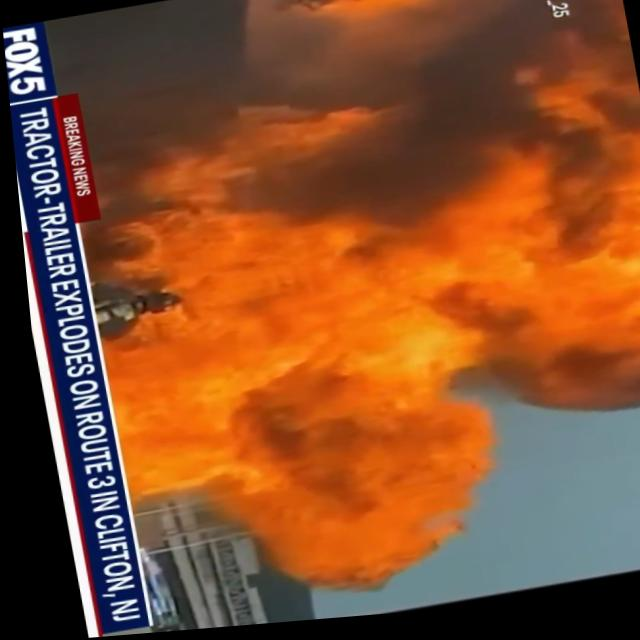Fire: (44, 0, 640, 282), (194, 20, 480, 593), (95, 252, 640, 500), (417, 39, 640, 430)
